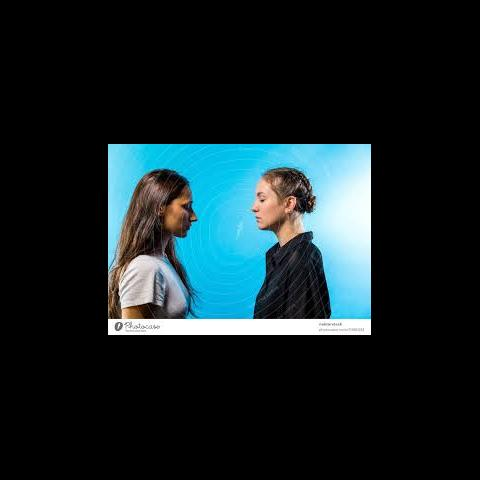closed: (172, 194, 198, 215), (252, 190, 272, 208)
